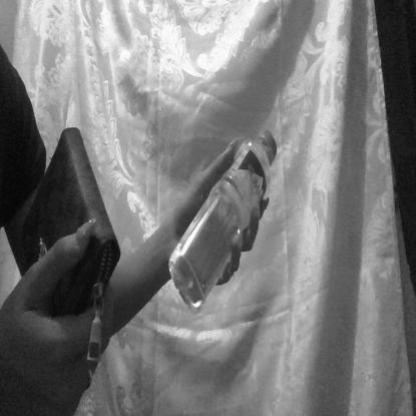Plastic Bottle: (149, 126, 305, 317)
